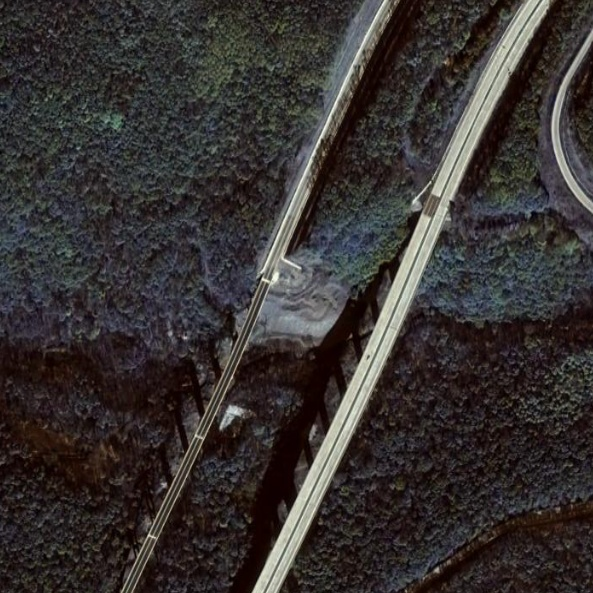slope: (252, 249, 349, 358)
